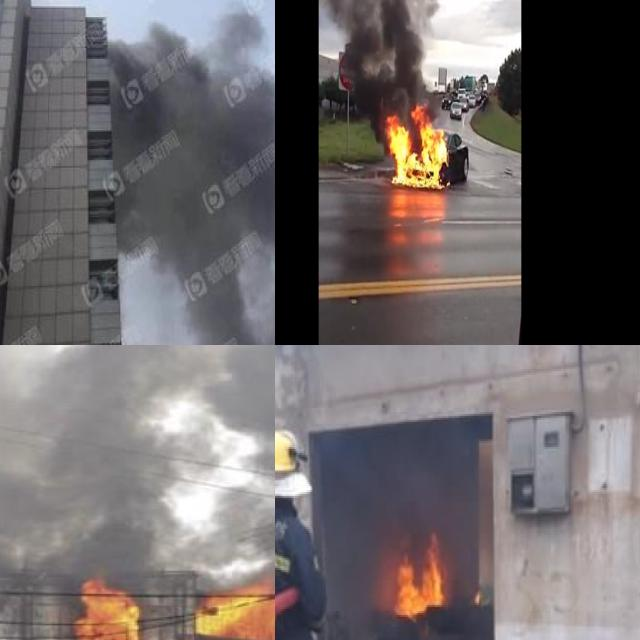fire: (188, 574, 275, 639), (386, 109, 449, 190), (391, 529, 446, 617), (70, 574, 142, 640)
smoke: (0, 345, 275, 640), (112, 20, 275, 345), (328, 429, 466, 535), (321, 0, 440, 122)
